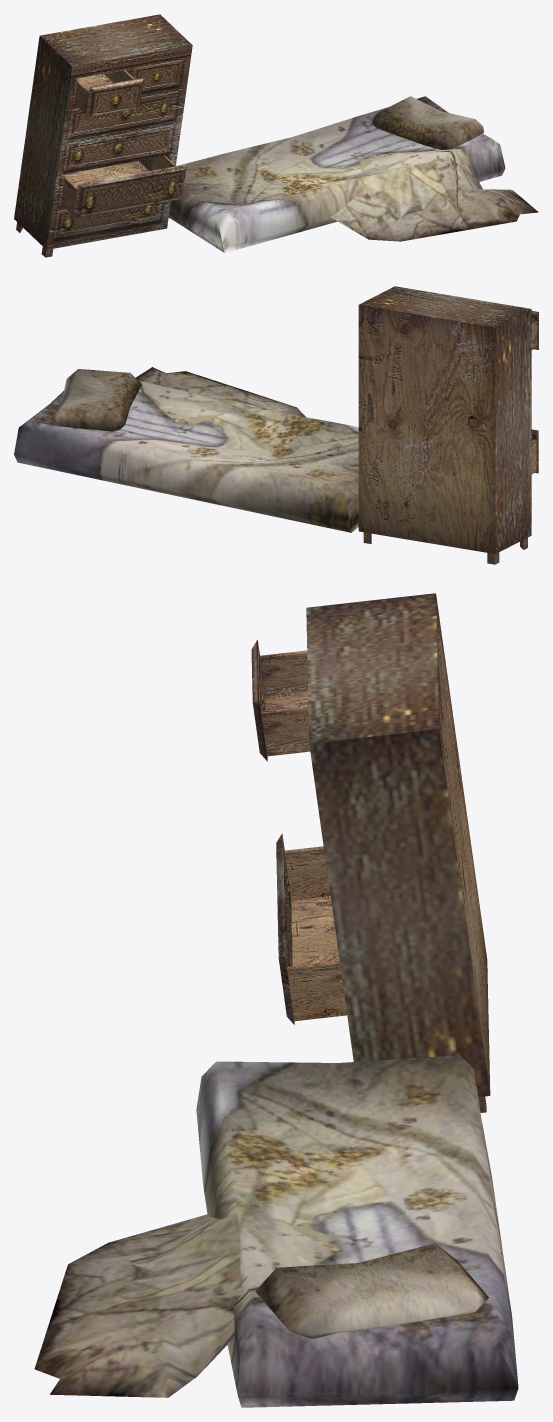
Rendered from rmbeda.glb.
The picture shows the model from 3 angles, top to bottom: view 1: azimuth 30°, elevation 25°; view 2: azimuth 150°, elevation 25°; view 3: azimuth 270°, elevation 25°; orthographic projection. The views are drawn at different scales.
Parts seen in each view (by area): view 1: _rmbeda; view 2: _rmbeda; view 3: _rmbeda.
Part boxes in pixels (bbox=[...]): _rmbeda: bbox=[14, 14, 538, 257]; _rmbeda: bbox=[14, 286, 538, 564]; _rmbeda: bbox=[34, 593, 518, 1407].
Bounding box in the file's own units: 3.62 × 1.69 × 1.77.
2 materials, 2 textured.
